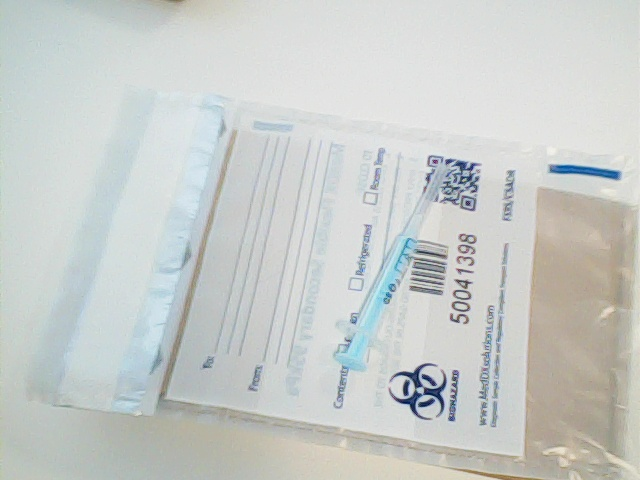syringe: (333, 153, 453, 374)
